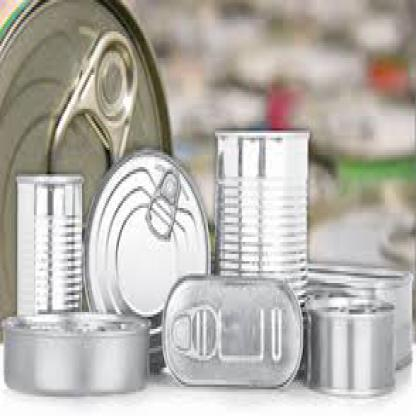METAL: (0, 0, 171, 344), (82, 148, 209, 372), (212, 125, 307, 367), (160, 271, 301, 389), (306, 259, 413, 372), (1, 314, 148, 392), (303, 290, 396, 399), (14, 174, 82, 317)
